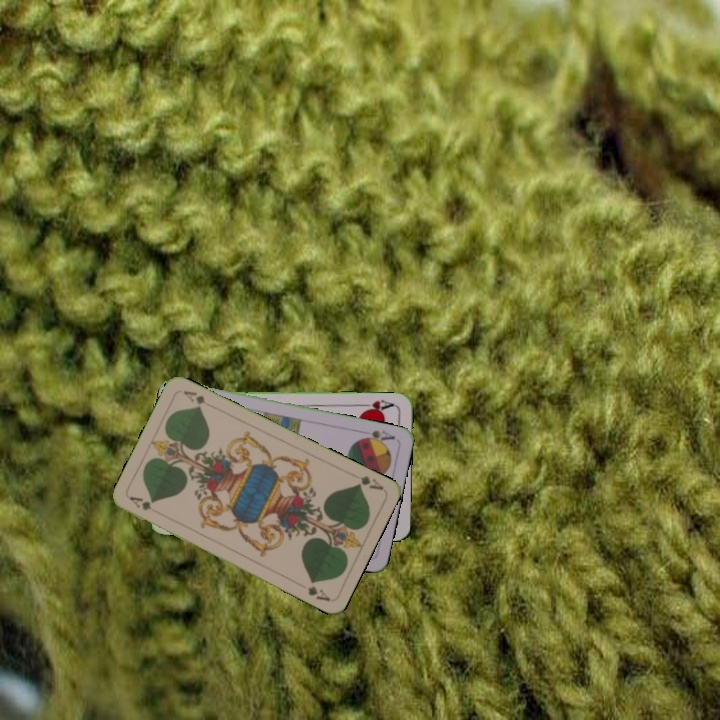GA: (352, 471, 386, 493), (125, 492, 154, 513)
HA: (357, 396, 396, 415)
SA: (356, 426, 397, 447)
